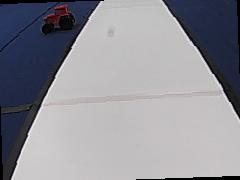Tracktor: (40, 2, 76, 35)
